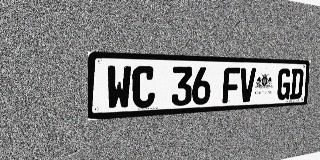3: (171, 66, 193, 106)
6: (192, 67, 212, 105)
C: (132, 66, 155, 109)
D: (289, 69, 304, 99)
F: (222, 67, 240, 103)
G: (276, 68, 292, 100)
V: (239, 68, 256, 102)
W: (106, 65, 132, 110)
